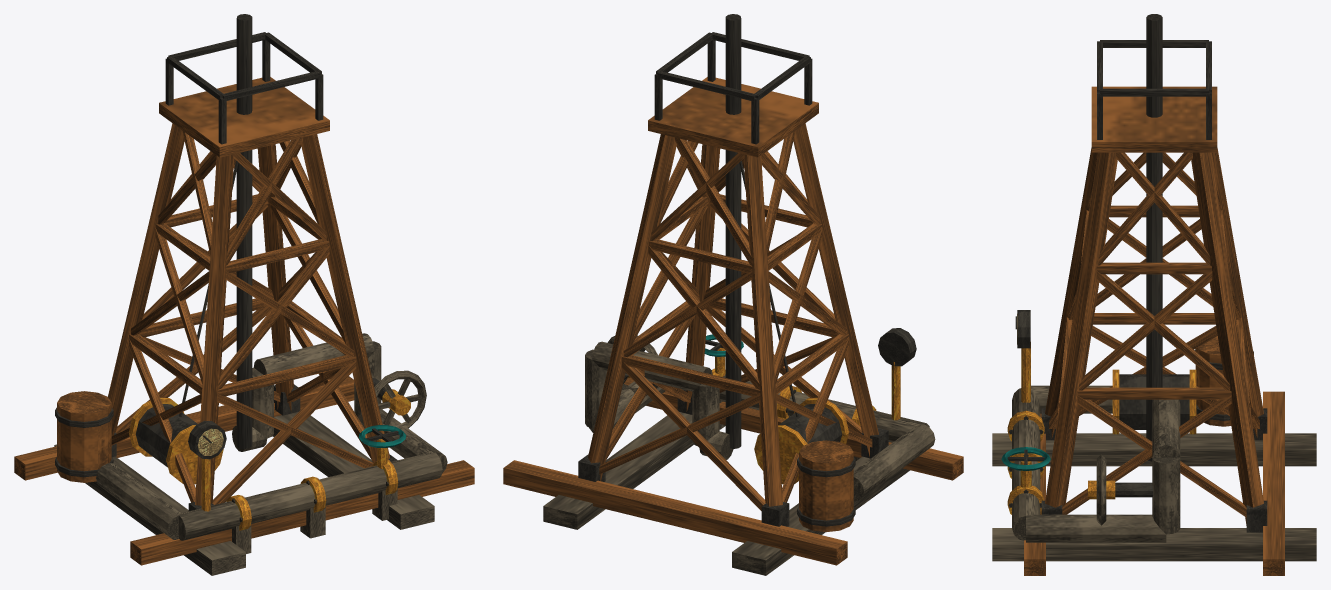
File: derrick-03.glb
3 renders of one model, left to right at view 1: azimuth 30°, elevation 25°; view 2: azimuth 150°, elevation 25°; view 3: azimuth 270°, elevation 25°, orthographic. The views are drawn at different scales.
Parts seen in each view (by area): view 1: derrick-03; view 2: derrick-03; view 3: derrick-03.
Part boxes in pixels (<box>): derrick-03: <box>14,14,474,575</box>; derrick-03: <box>503,14,963,575</box>; derrick-03: <box>992,14,1316,575</box>.
Size of the model in its own units: 5.37 by 7.3 by 4.4.
Materials: 1 (1 with a texture image).
